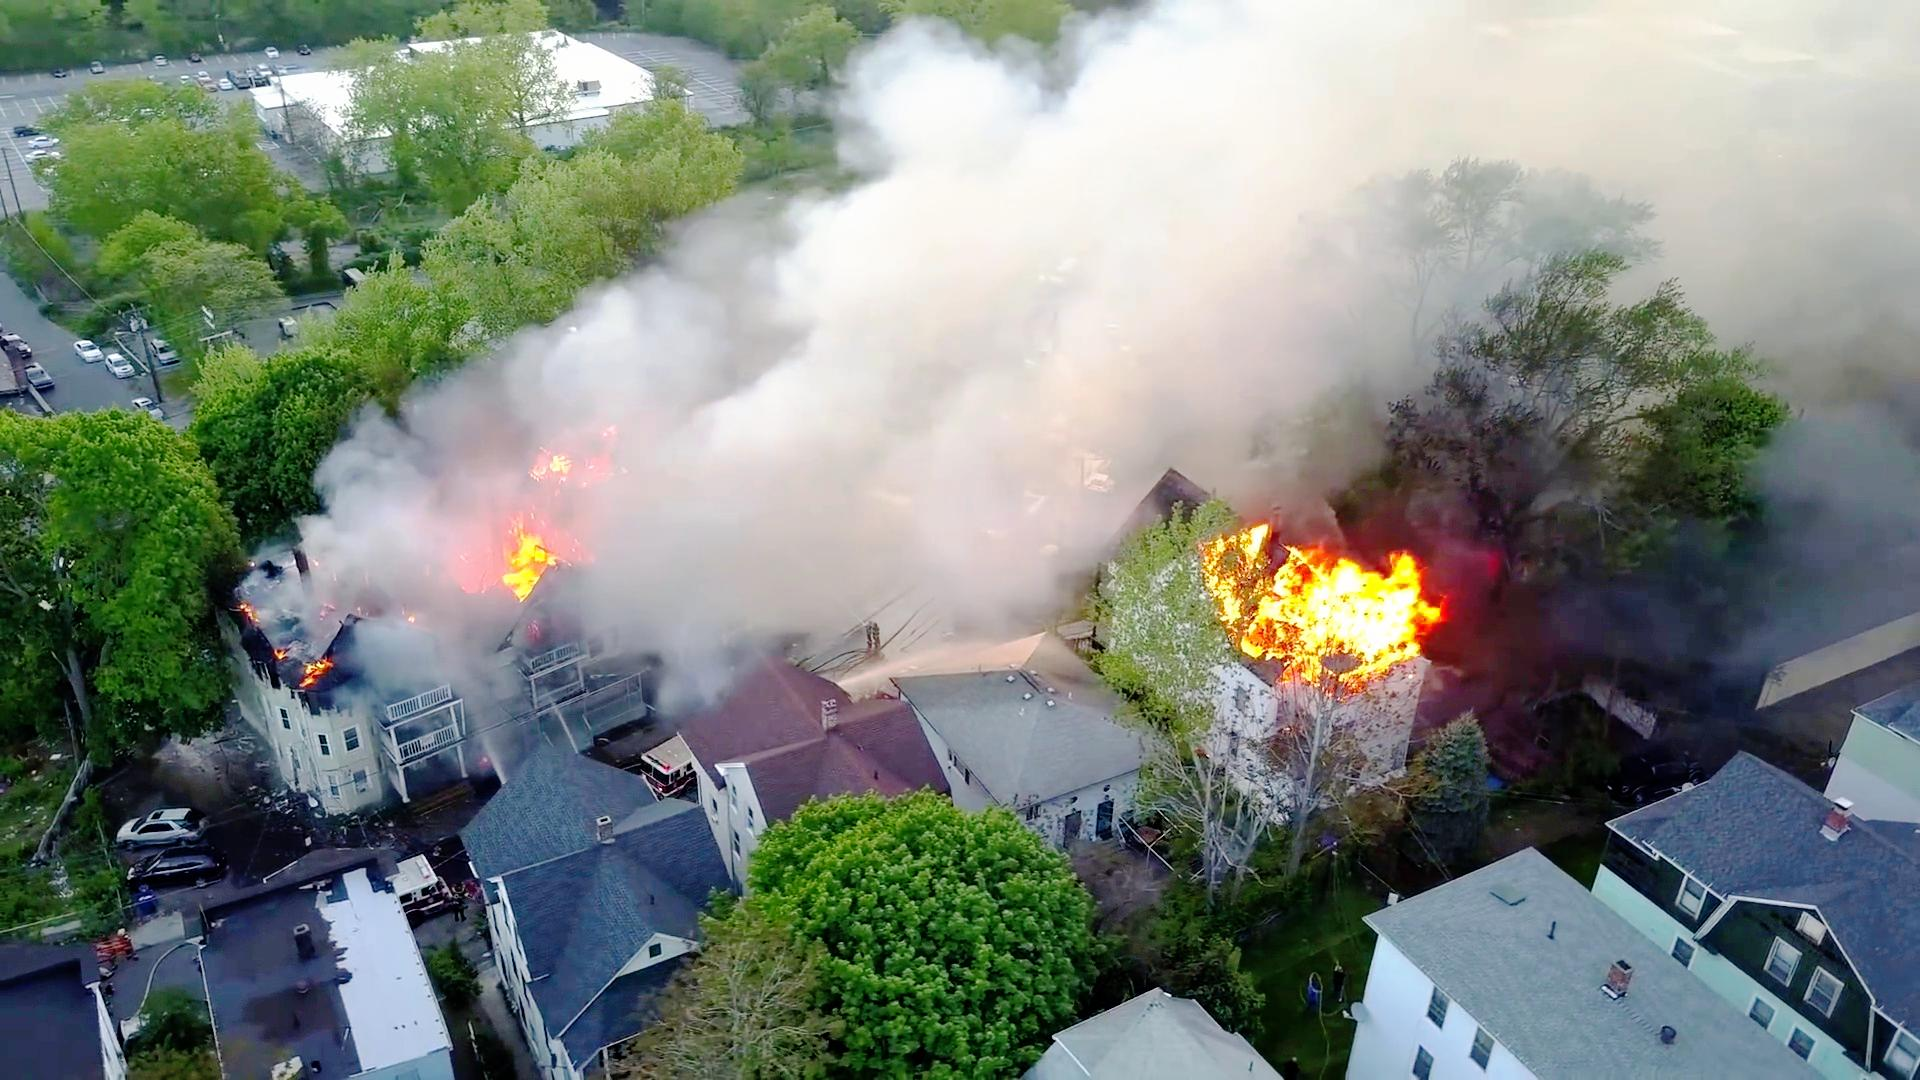fire: (1184, 546, 1385, 682)
